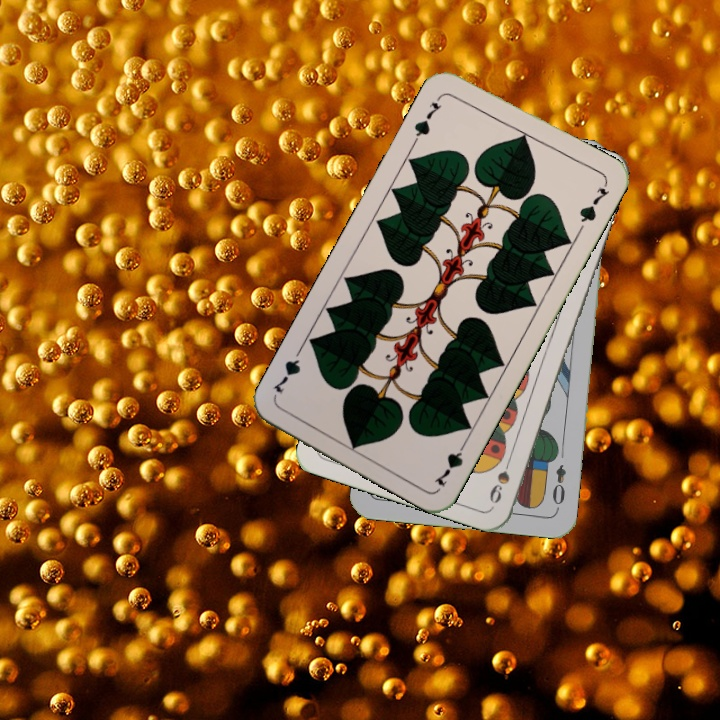EO: (548, 460, 569, 513)
G7: (430, 435, 470, 489), (410, 91, 446, 145)
S9: (485, 450, 515, 507)
